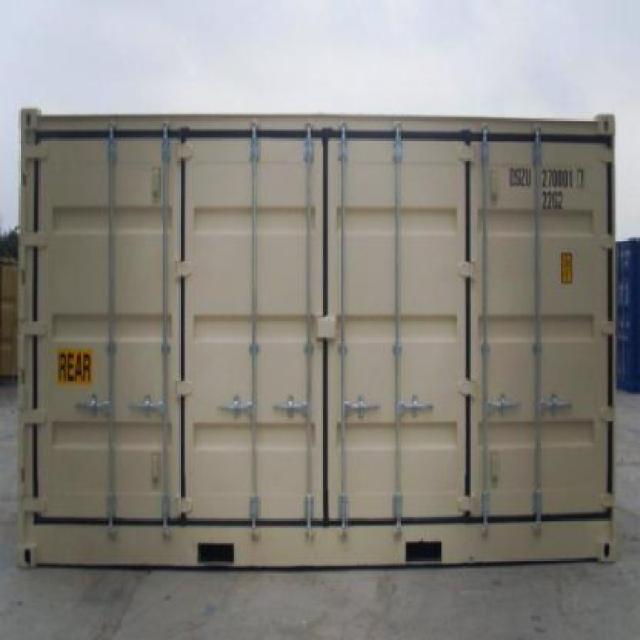ISO: (542, 190, 570, 214)
container_number: (506, 162, 590, 188)
